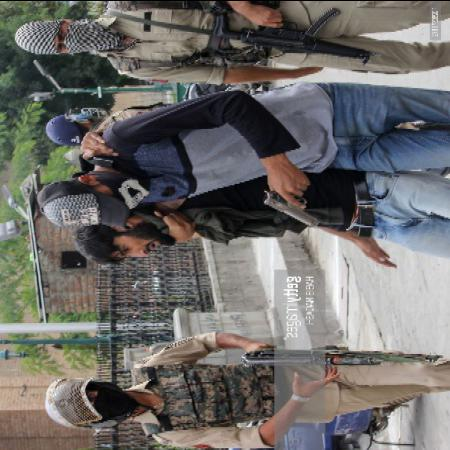Pistol: (257, 182, 318, 232)
